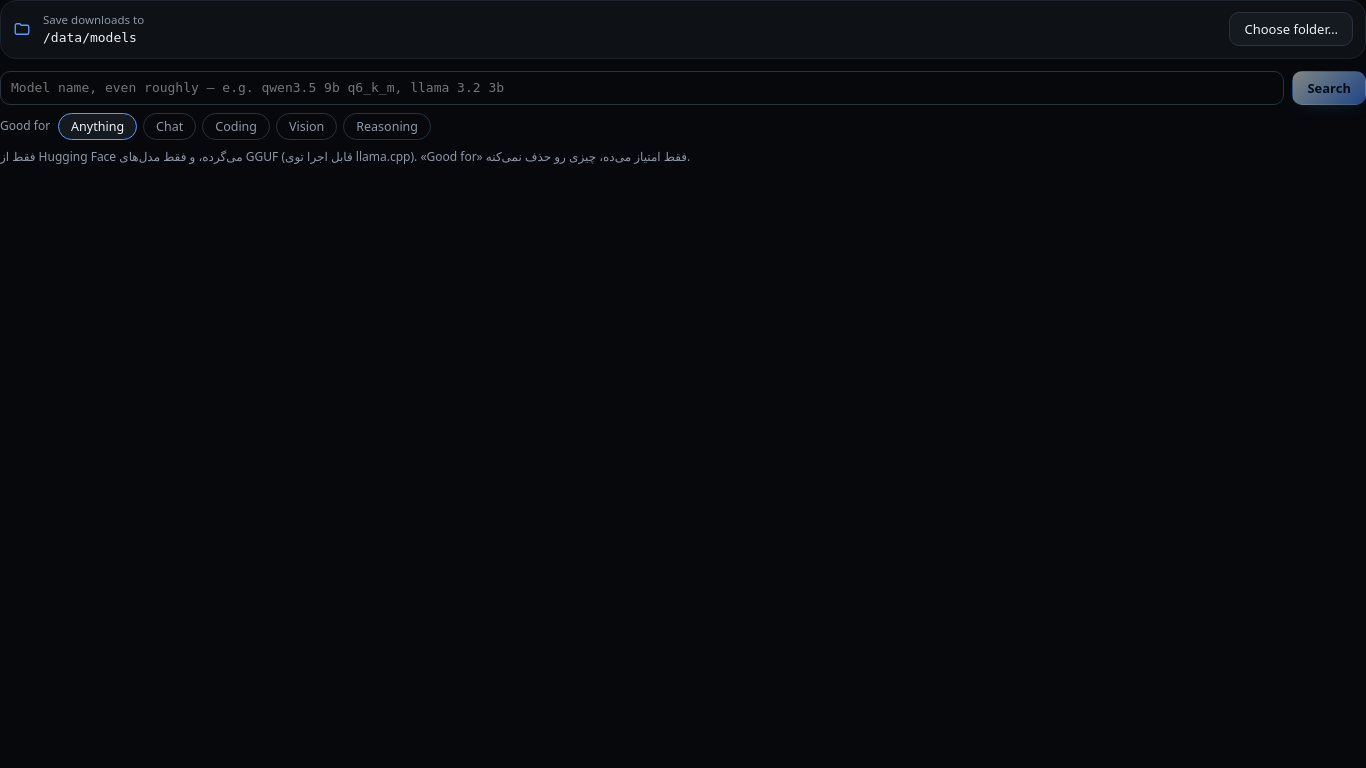
Test: OnlineModelSearch › changing the download folder goes through the folder picker and the API
Click the button "Choose folder…" at (1291, 29), box top-left (1230, 12), bottom-right (1353, 46)
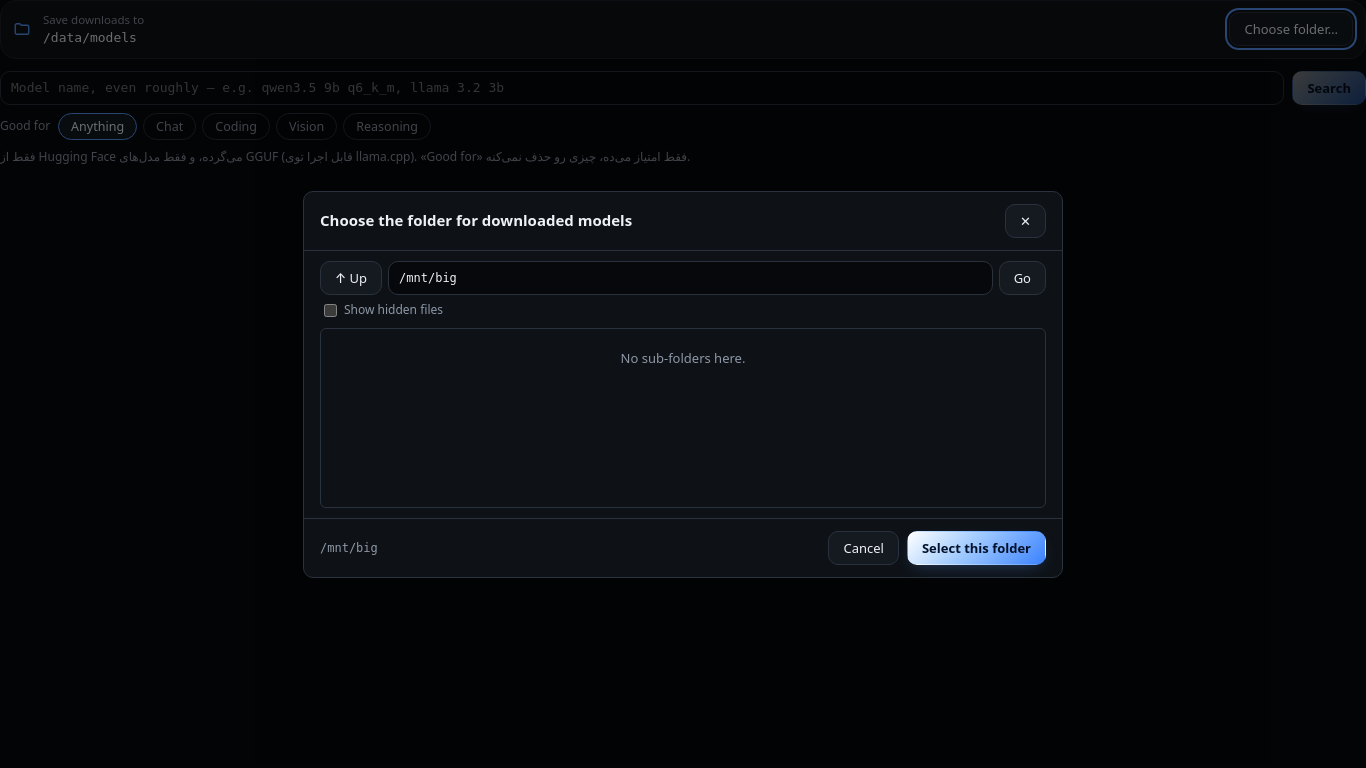
Click the button "Select this folder" at (976, 548), box top-left (907, 530), bottom-right (1046, 564)
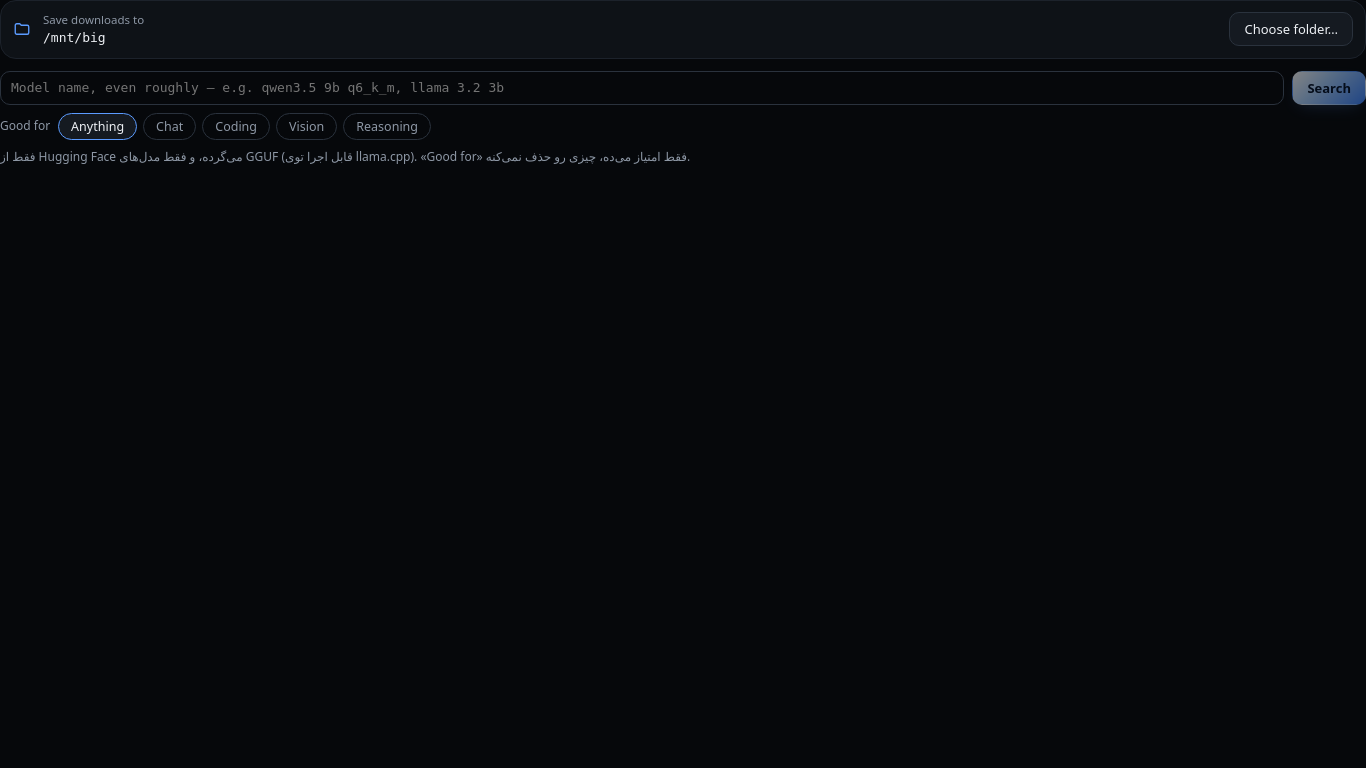
Now the text "/mnt/big" is shown, box top-left (43, 30), bottom-right (106, 45)
